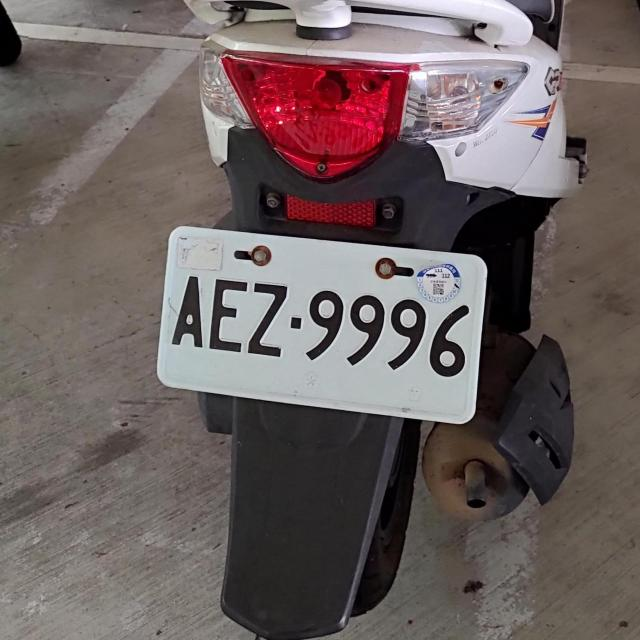W: (154, 227, 492, 416)
